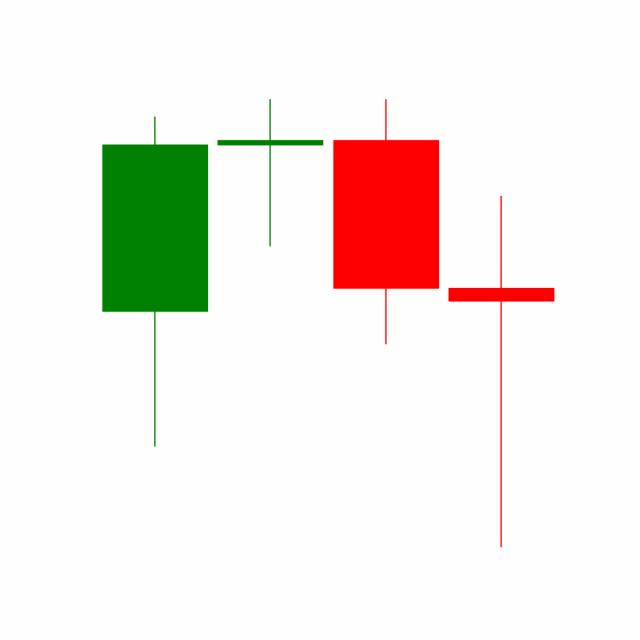Spinning Top: (443, 192, 559, 550)
